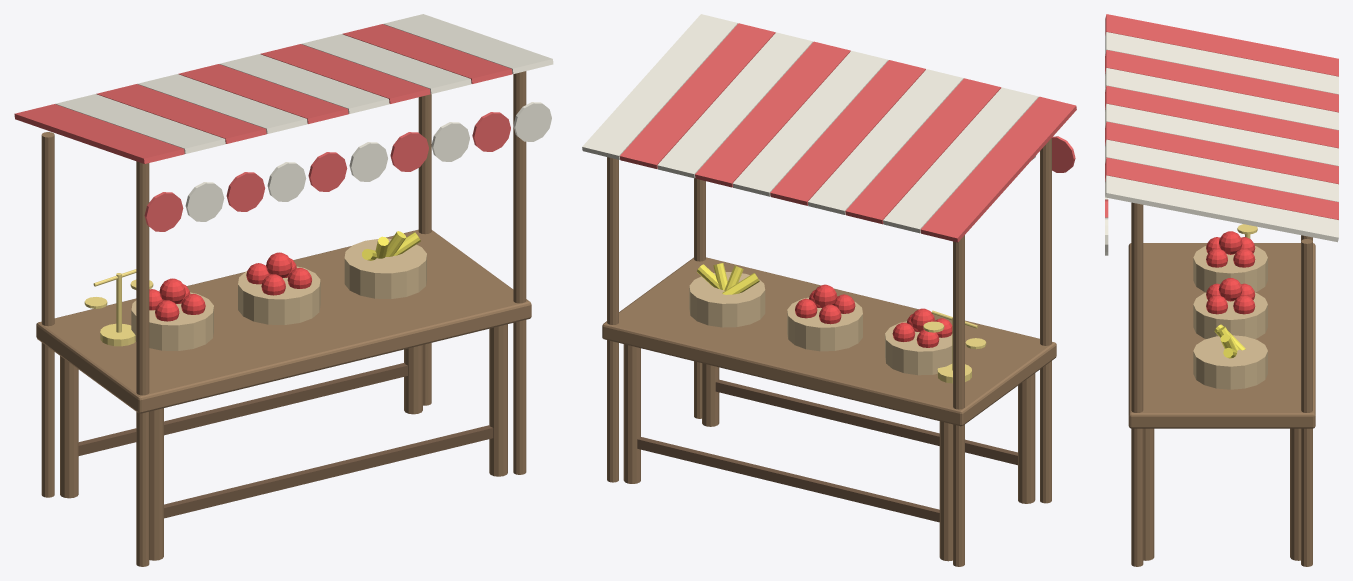
File: market_stall.glb
The picture shows the model from 3 angles, left to right: view 1: azimuth 30°, elevation 25°; view 2: azimuth 150°, elevation 25°; view 3: azimuth 270°, elevation 25°; orthographic projection. The views are drawn at different scales.
Visible parts, largest first — view 1: CounterTop, CanopyPost_-1.15_-0.5, CanopyPost_1.15_-0.5, Cube, CanopyPost_-1.15_0.5, Cube.001, AwningStripe_0, WickerBasket_2, AwningStripe_1, AwningStripe_2, AwningStripe_3, AwningStripe_7 (+23 smaller); view 2: CounterTop, AwningStripe_0, AwningStripe_2, AwningStripe_7, AwningStripe_3, AwningStripe_8, AwningStripe_5, AwningStripe_6, AwningStripe_9, AwningStripe_1, AwningStripe_4, CanopyPost_-1.15_-0.5 (+13 smaller); view 3: CounterTop, AwningStripe_9, CanopyPost_1.15_-0.5, AwningStripe_5, AwningStripe_6, AwningStripe_4, AwningStripe_7, AwningStripe_8, AwningStripe_0, AwningStripe_1, AwningStripe_2, AwningStripe_3 (+12 smaller).
Boxes of the visible parts, bbox=[...] form: CounterTop: bbox=[36, 229, 531, 413]; CanopyPost_-1.15_-0.5: bbox=[136, 161, 149, 566]; CanopyPost_1.15_-0.5: bbox=[513, 71, 526, 474]; Cube: bbox=[164, 425, 493, 518]; CanopyPost_-1.15_0.5: bbox=[41, 132, 54, 497]; Cube.001: bbox=[78, 363, 407, 455]; AwningStripe_0: bbox=[14, 104, 184, 163]; WickerBasket_2: bbox=[344, 238, 426, 299]; AwningStripe_1: bbox=[55, 94, 225, 153]; AwningStripe_2: bbox=[96, 84, 266, 143]; AwningStripe_3: bbox=[137, 74, 307, 133]; AwningStripe_7: bbox=[301, 34, 471, 93]; CounterTop: bbox=[602, 257, 1056, 426]; AwningStripe_0: bbox=[920, 96, 1076, 242]; AwningStripe_2: bbox=[845, 78, 1001, 224]; AwningStripe_7: bbox=[657, 32, 812, 178]; AwningStripe_3: bbox=[807, 69, 963, 214]; AwningStripe_8: bbox=[619, 23, 775, 168]; AwningStripe_5: bbox=[732, 50, 888, 196]; AwningStripe_6: bbox=[695, 41, 850, 187]; AwningStripe_9: bbox=[582, 14, 737, 159]; AwningStripe_1: bbox=[883, 87, 1038, 233]; AwningStripe_4: bbox=[770, 60, 925, 205]; CanopyPost_-1.15_-0.5: bbox=[1040, 138, 1051, 503]; CounterTop: bbox=[1128, 243, 1315, 428]; AwningStripe_9: bbox=[1105, 175, 1338, 242]; CanopyPost_1.15_-0.5: bbox=[1131, 202, 1143, 566]; AwningStripe_5: bbox=[1105, 103, 1338, 166]; AwningStripe_6: bbox=[1105, 121, 1338, 184]; AwningStripe_4: bbox=[1105, 85, 1338, 148]; AwningStripe_7: bbox=[1105, 139, 1338, 202]; AwningStripe_8: bbox=[1105, 157, 1338, 219]; AwningStripe_0: bbox=[1105, 14, 1338, 76]; AwningStripe_1: bbox=[1105, 32, 1338, 94]; AwningStripe_2: bbox=[1105, 50, 1338, 112]; AwningStripe_3: bbox=[1105, 68, 1338, 130].
Size of the model in its own units: 2.5 by 2.46 by 1.38.
